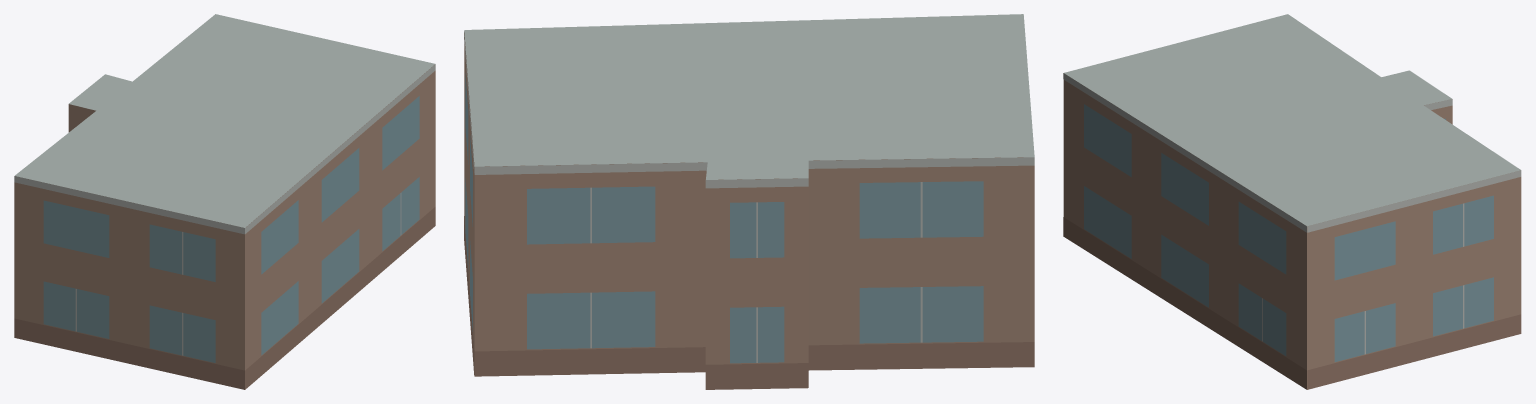
The model's file is survey-upis-33045467.glb.
3 views of the same model, side by side, from view 1: azimuth 30°, elevation 25°; view 2: azimuth 150°, elevation 25°; view 3: azimuth 270°, elevation 25° (orthographic). The views are drawn at different scales.
Parts seen in each view (by area): view 1: survey-upis-33045467.tmp; view 2: survey-upis-33045467.tmp; view 3: survey-upis-33045467.tmp.
Boxes of the visible parts, left/top/right/bottom form: survey-upis-33045467.tmp: left=14, top=14, right=435, bottom=389; survey-upis-33045467.tmp: left=464, top=14, right=1034, bottom=389; survey-upis-33045467.tmp: left=1063, top=14, right=1521, bottom=389.
Size of the model in its own units: 16.99 by 6.1 by 15.48.
